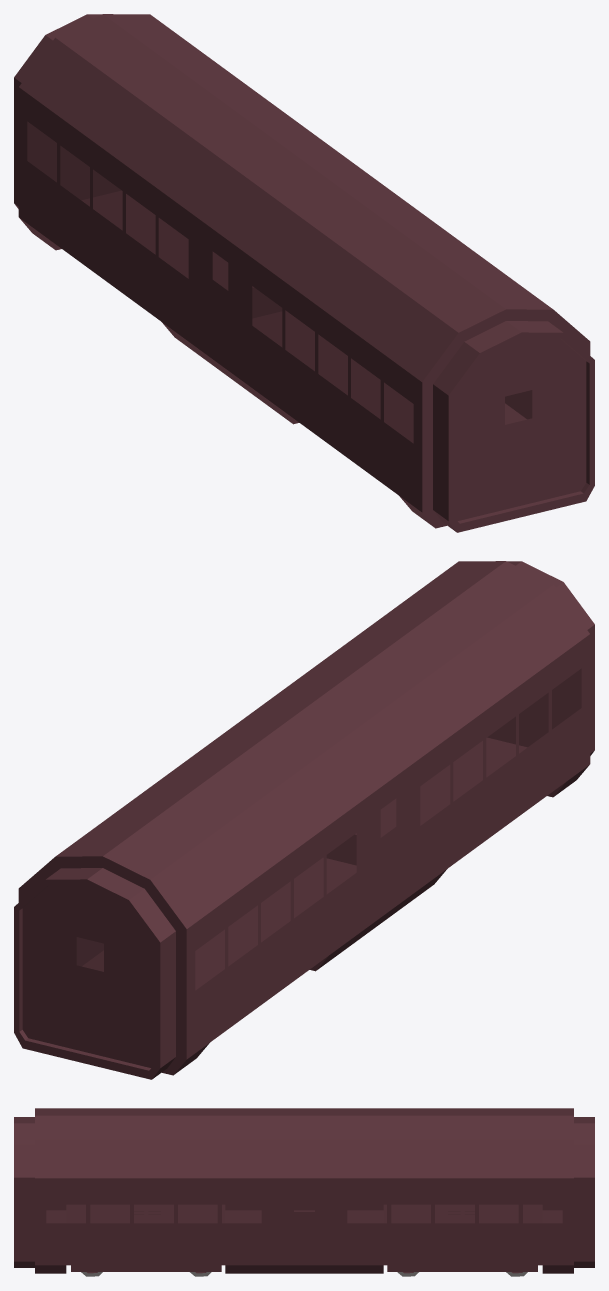
File: train-speed-wagon.fbx
3 views of the same model, one above another, from view 1: azimuth 30°, elevation 25°; view 2: azimuth 150°, elevation 25°; view 3: azimuth 270°, elevation 25° (orthographic). The views are drawn at different scales.
Visible parts, largest first — view 1: train-speed-wagon-base; view 2: train-speed-wagon-base; view 3: train-speed-wagon-base, train-speed-wagon-wheel-frame_F, train-speed-wagon-wheel-frame_B.
Part boxes in pixels (x1,y1,x2,y2): train-speed-wagon-base: (14,14,594,532); train-speed-wagon-base: (14,561,594,1079); train-speed-wagon-base: (14,1108,594,1273); train-speed-wagon-wheel-frame_F: (71,1211,221,1271); train-speed-wagon-wheel-frame_B: (387,1211,537,1271).
Size of the model in its own units: 3.1 by 3.92 by 13.89.
